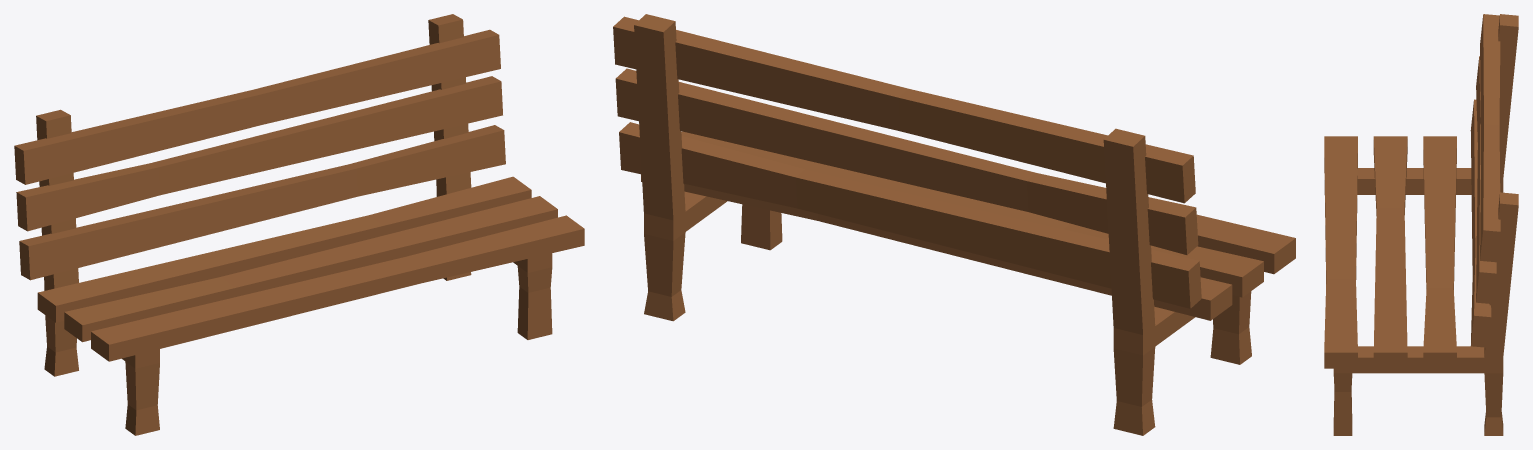
File: Bank_01.fbx
3 renders of one model, left to right at view 1: azimuth 30°, elevation 25°; view 2: azimuth 150°, elevation 25°; view 3: azimuth 270°, elevation 25°, orthographic. The views are drawn at different scales.
Visible parts, largest first — view 1: Bank_01; view 2: Bank_01; view 3: Bank_01.
Part boxes in pixels (x1,y1,x2,y2): Bank_01: (14,14,584,435); Bank_01: (613,14,1295,435); Bank_01: (1324,14,1518,435).
Bounding box in the file's own units: 217 × 109 × 82.45.
